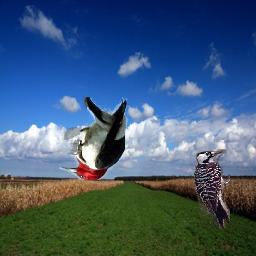Woodpecker: (58, 98, 128, 181), (194, 150, 230, 229)
